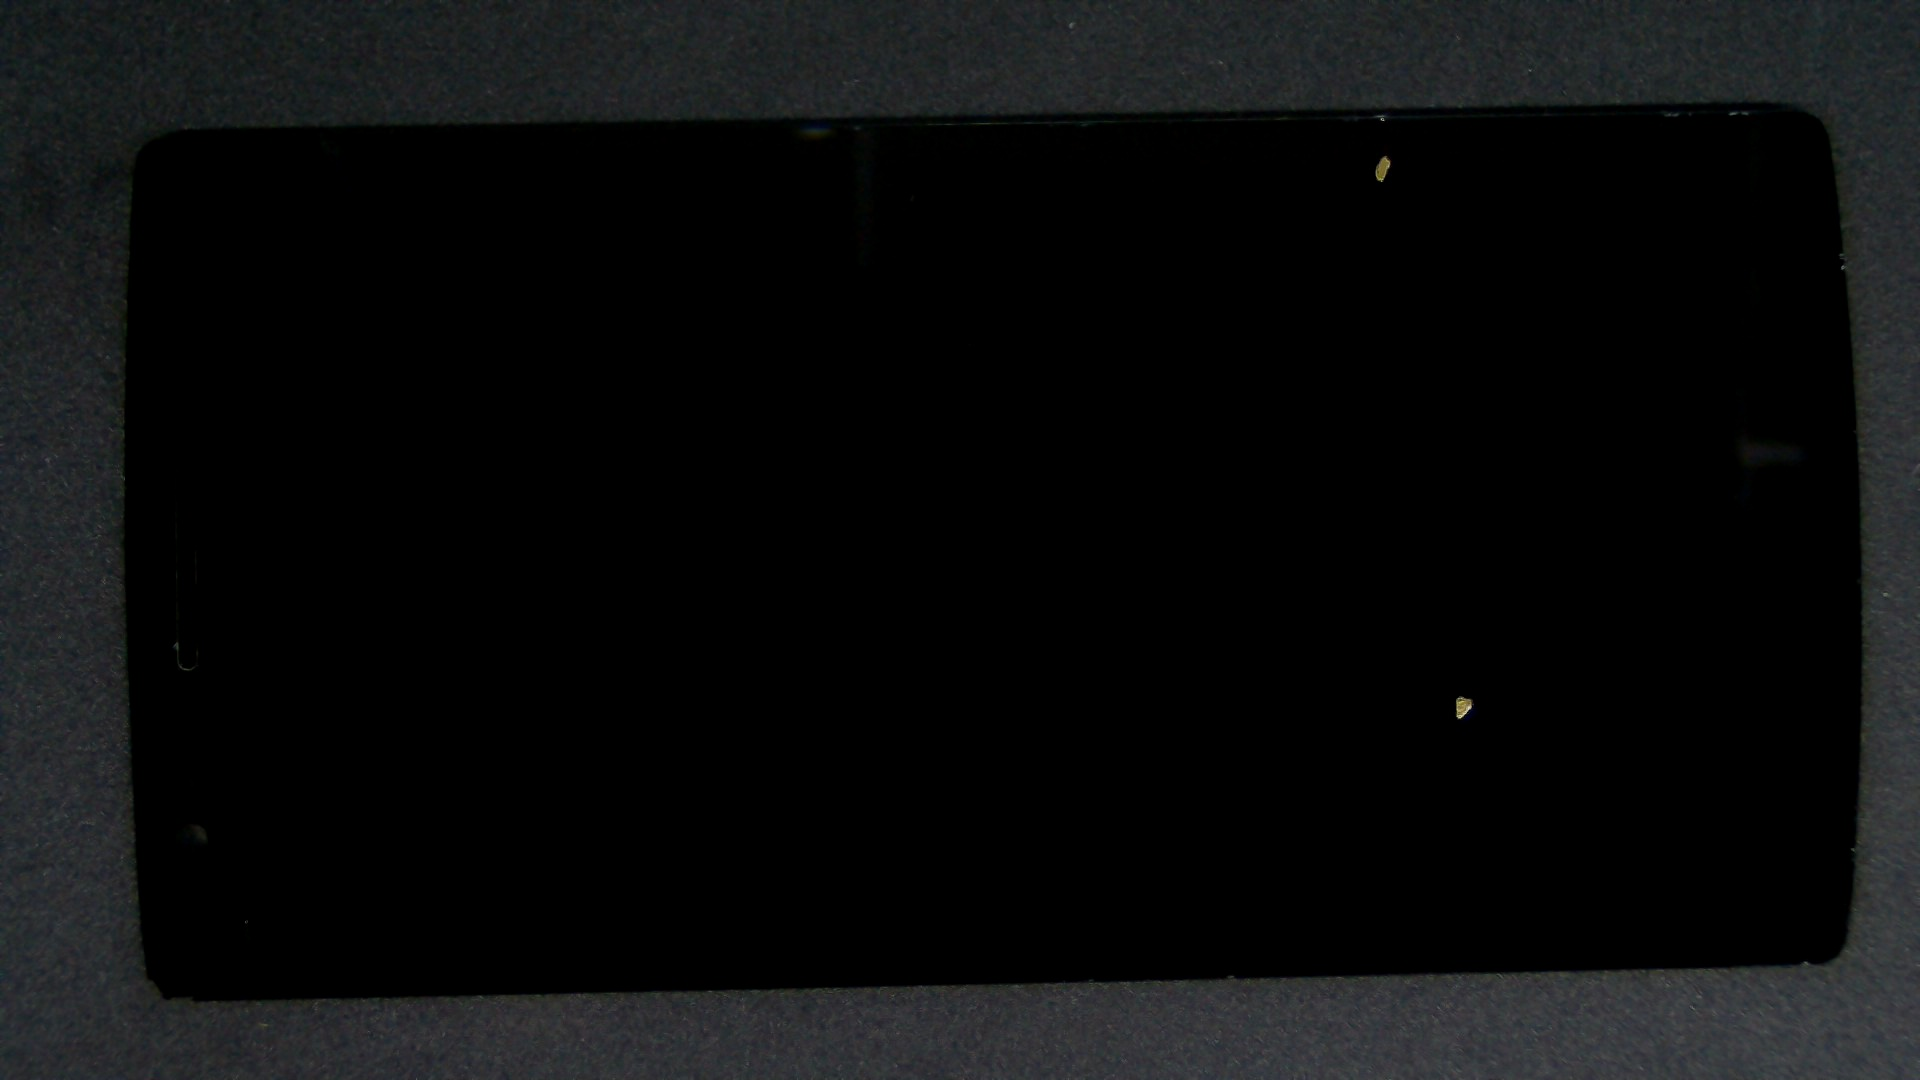oil: (731, 345, 1920, 1042), (694, 76, 1920, 233)
